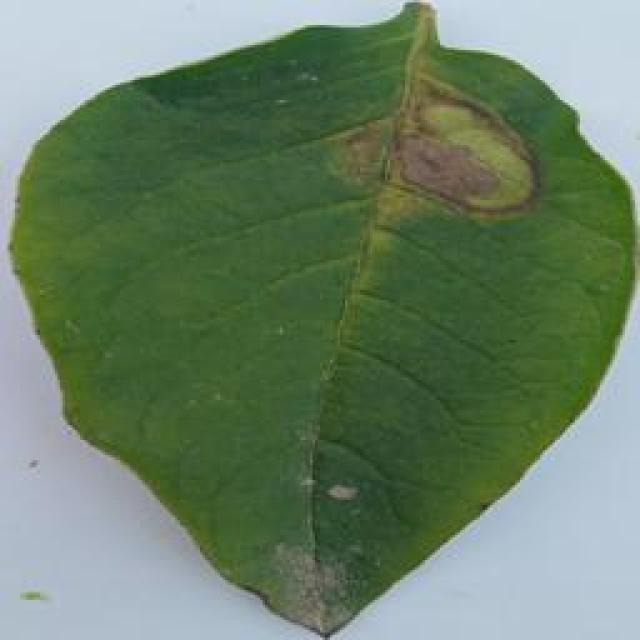Potato_Late_Blight: (9, 3, 626, 634)
